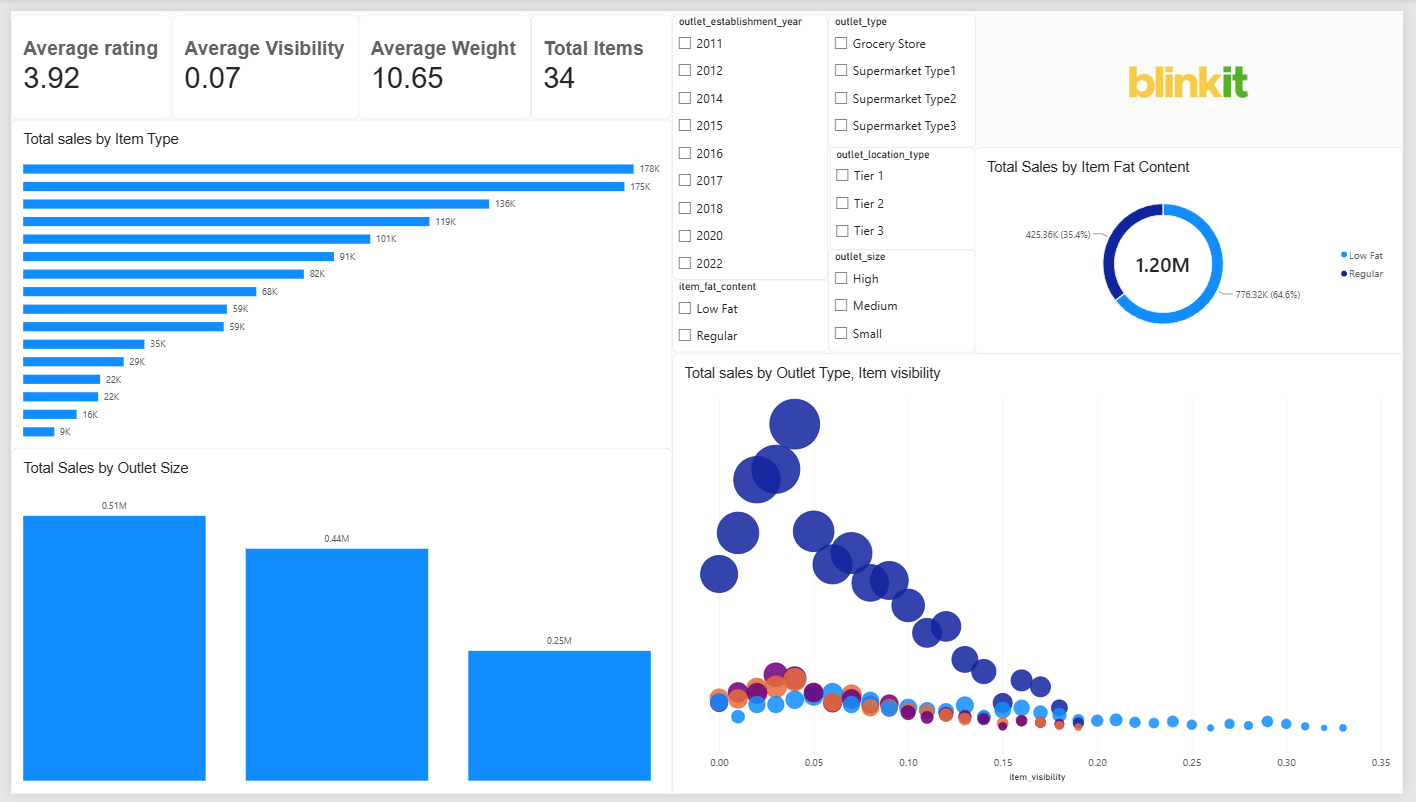

Layout of this report page (visuals, bound fields, positions):
{"tool":"powerbi","page":{"name":"Product & Outlet Analysis","canvas":[1920,1080],"ordinal":1},"visuals":[{"type":"cardVisual","fields":{"Data":["Blinkit-Grocery-Data-Cleaned.Avg_visibility"]},"box":[222,6,258,144],"z":0},{"type":"cardVisual","fields":{"Data":["Blinkit-Grocery-Data-Cleaned.Avg_rating"]},"box":[0,6,220,144],"z":1000},{"type":"cardVisual","fields":{"Data":["Blinkit-Grocery-Data-Cleaned.Avg_weight"]},"box":[480,6,238,144],"z":2000},{"type":"cardVisual","fields":{"Data":["Blinkit-Grocery-Data-Cleaned.Total_items"]},"box":[718,6,194,144],"z":3000},{"type":"slicer","fields":{"Values":["Blinkit-Grocery-Data-Cleaned.outlet_establishment_year"]},"box":[912.9,5.7,214.3,365.7],"z":4000},{"type":"slicer","fields":{"Values":["Blinkit-Grocery-Data-Cleaned.outlet_location_type"]},"box":[1128.6,188.6,201.4,141.4],"z":5000},{"type":"slicer","fields":{"Values":["Blinkit-Grocery-Data-Cleaned.outlet_size"]},"box":[1127.1,330,202.9,141.4],"z":6000},{"type":"slicer","fields":{"Values":["Blinkit-Grocery-Data-Cleaned.item_fat_content"]},"box":[912.9,371.4,215.7,100],"z":7000},{"type":"barChart","title":"Total sales by Item Type","fields":{"Category":["Blinkit-Grocery-Data-Cleaned.item_type"],"Y":["Blinkit-Grocery-Data-Cleaned.Total_sales"]},"box":[0,150,912,454],"z":8000},{"type":"columnChart","title":"Total Sales by Outlet Size","fields":{"Category":["Blinkit-Grocery-Data-Cleaned.outlet_size"],"Y":["Blinkit-Grocery-Data-Cleaned.Total_sales"]},"box":[0,604,912,476],"z":9000},{"type":"donutChart","title":"Total Sales by Item Fat Content","fields":{"Category":["Blinkit-Grocery-Data-Cleaned.item_fat_content"],"Y":["Blinkit-Grocery-Data-Cleaned.Total_sales"]},"box":[1330,187.5,590,285],"z":10000},{"type":"scatterChart","title":"Total sales by Outlet Type, Item visibility","fields":{"Series":["Blinkit-Grocery-Data-Cleaned.outlet_type"],"Size":["Blinkit-Grocery-Data-Cleaned.Total_sales"],"X":["Blinkit-Grocery-Data-Cleaned.item_visibility"],"Y":["CountNonNull(Blinkit-Grocery-Data-Cleaned.sales)"]},"box":[912.5,472.5,1007.5,607.5],"z":11000},{"type":"slicer","fields":{"Values":["Blinkit-Grocery-Data-Cleaned.outlet_type"]},"box":[1127.1,5.7,202.9,182.9],"z":12000},{"type":"image","box":[1330,6.7,590,182],"z":13000}]}

Visuals, with their boxes in screenshot pixels (x1, y1, x2, y2), scaled from the page's 1920x1080 canvas onto the 1416x802 screenshot:
cardVisual - Blinkit-Grocery-Data-Cleaned.Avg_visibility: bbox=[164, 4, 354, 111]
cardVisual - Blinkit-Grocery-Data-Cleaned.Avg_rating: bbox=[0, 4, 162, 111]
cardVisual - Blinkit-Grocery-Data-Cleaned.Avg_weight: bbox=[354, 4, 530, 111]
cardVisual - Blinkit-Grocery-Data-Cleaned.Total_items: bbox=[530, 4, 673, 111]
slicer - Blinkit-Grocery-Data-Cleaned.outlet_establishment_year: bbox=[673, 4, 831, 276]
slicer - Blinkit-Grocery-Data-Cleaned.outlet_location_type: bbox=[832, 140, 981, 245]
slicer - Blinkit-Grocery-Data-Cleaned.outlet_size: bbox=[831, 245, 981, 350]
slicer - Blinkit-Grocery-Data-Cleaned.item_fat_content: bbox=[673, 276, 832, 350]
"Total sales by Item Type" barChart: bbox=[0, 111, 673, 449]
"Total Sales by Outlet Size" columnChart: bbox=[0, 449, 673, 801]
"Total Sales by Item Fat Content" donutChart: bbox=[981, 139, 1415, 351]
"Total sales by Outlet Type, Item visibility" scatterChart: bbox=[673, 351, 1415, 801]
slicer - Blinkit-Grocery-Data-Cleaned.outlet_type: bbox=[831, 4, 981, 140]
image: bbox=[981, 5, 1415, 140]
